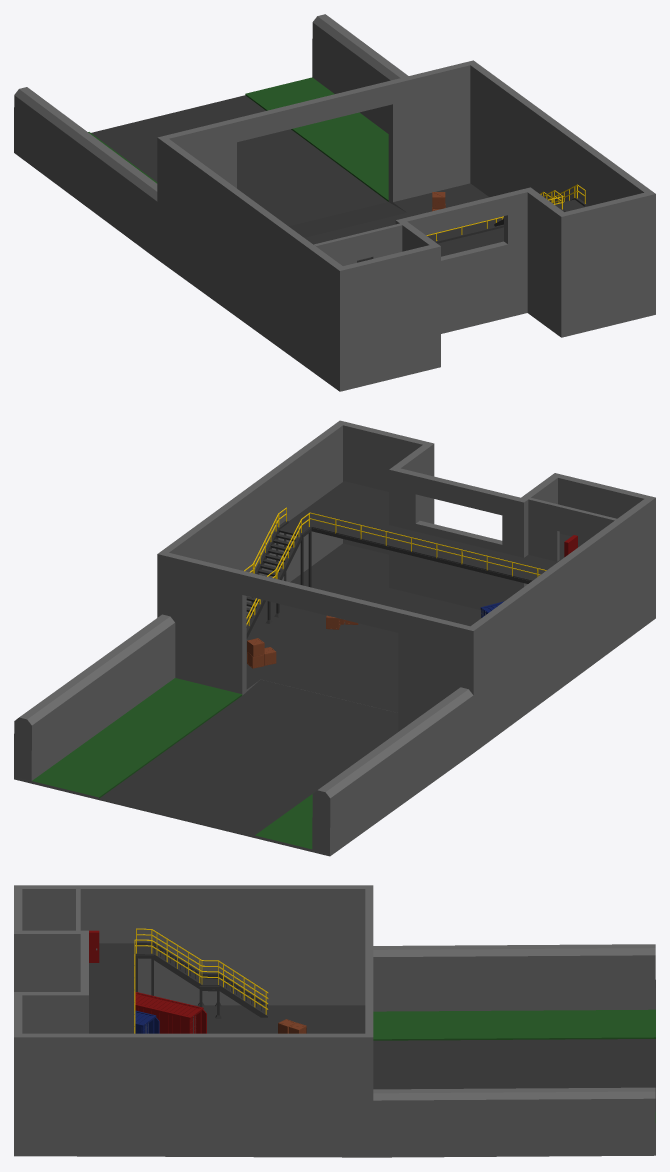
Rendered from färgadhangar.fbx.
The picture shows the model from 3 angles, top to bottom: view 1: azimuth 30°, elevation 25°; view 2: azimuth 150°, elevation 25°; view 3: azimuth 270°, elevation 25°; orthographic projection.
Visible parts, largest first — view 1: hangar, stairs; view 2: hangar, stairs; view 3: hangar, stairs, container2, container.
Part boxes in pixels (left/top/right/bottom): hangar: left=14, top=14, right=655, bottom=391; stairs: left=357, top=184, right=587, bottom=262; hangar: left=14, top=420, right=655, bottom=856; stairs: left=244, top=481, right=571, bottom=638; hangar: left=14, top=885, right=655, bottom=1157; stairs: left=89, top=928, right=268, bottom=1033; container2: left=135, top=992, right=206, bottom=1033; container: left=135, top=1010, right=159, bottom=1033.
Size of the model in its own units: 4200 by 1556 by 7502.
